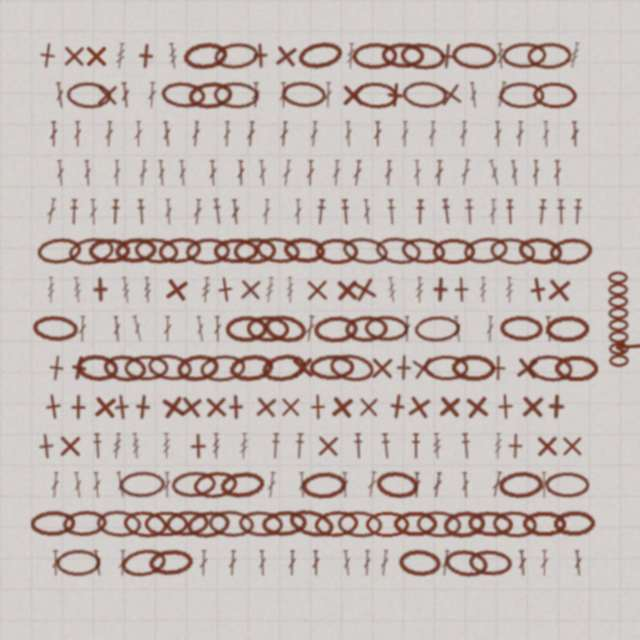chain: (286, 505, 336, 542), (296, 39, 344, 72), (120, 546, 168, 579), (262, 312, 309, 345), (260, 351, 307, 384), (328, 351, 375, 384), (67, 235, 115, 267), (341, 235, 389, 267), (185, 508, 232, 540), (443, 547, 490, 579), (254, 235, 302, 266), (374, 235, 422, 266), (462, 235, 509, 266), (146, 352, 193, 383), (192, 469, 239, 500), (182, 40, 228, 71), (157, 235, 203, 266), (517, 235, 563, 266), (175, 352, 221, 383), (228, 352, 274, 383), (399, 41, 446, 71), (36, 236, 83, 266), (133, 236, 180, 266), (489, 236, 536, 266), (199, 353, 246, 383), (527, 353, 574, 383), (375, 469, 420, 500), (213, 41, 259, 71), (160, 80, 206, 110), (187, 80, 233, 110), (400, 236, 446, 266), (548, 236, 594, 266), (102, 353, 148, 383), (219, 470, 265, 500), (122, 509, 168, 539), (313, 509, 360, 538), (442, 509, 487, 539), (451, 41, 497, 70), (402, 80, 448, 109), (32, 314, 78, 343), (96, 509, 142, 538), (208, 509, 254, 538), (261, 509, 307, 538), (281, 80, 326, 109), (282, 236, 327, 265), (75, 353, 120, 382), (171, 470, 216, 499), (498, 470, 543, 499), (62, 509, 107, 538), (165, 509, 210, 538), (148, 548, 193, 577), (66, 81, 112, 109), (213, 81, 259, 109), (532, 81, 578, 109), (185, 237, 231, 265), (414, 315, 460, 343), (238, 510, 284, 538), (337, 510, 383, 538), (416, 510, 462, 538), (467, 510, 513, 538), (114, 236, 158, 265), (398, 548, 442, 577), (353, 81, 398, 109), (313, 315, 358, 343), (301, 471, 346, 499), (492, 510, 537, 538), (468, 549, 513, 577), (119, 471, 165, 498), (352, 42, 397, 69), (527, 42, 572, 69), (344, 315, 389, 342), (364, 315, 409, 342), (499, 315, 544, 342), (309, 354, 354, 381), (30, 510, 75, 537), (56, 549, 101, 576), (381, 42, 425, 69), (502, 42, 546, 69), (233, 237, 277, 264), (246, 315, 290, 342), (545, 315, 589, 342), (451, 354, 495, 381), (499, 82, 544, 108), (213, 238, 258, 264), (124, 355, 169, 381), (424, 355, 469, 381), (225, 315, 268, 342), (553, 510, 596, 537), (315, 238, 359, 264), (432, 238, 476, 264), (554, 355, 598, 381), (545, 472, 589, 498), (144, 511, 188, 537), (365, 511, 409, 537), (393, 511, 437, 537), (522, 511, 566, 537), (88, 238, 131, 264)
double: (487, 159, 502, 186), (490, 471, 504, 498), (495, 81, 508, 108), (459, 159, 472, 186), (45, 198, 58, 225), (131, 315, 144, 342), (304, 315, 316, 342), (115, 471, 127, 498), (366, 471, 378, 498), (54, 82, 66, 108), (281, 160, 293, 186), (72, 472, 84, 498), (120, 82, 131, 108), (468, 82, 479, 108), (55, 160, 66, 186), (257, 160, 268, 186), (352, 160, 363, 186), (509, 160, 520, 186), (192, 199, 203, 225), (230, 199, 241, 225), (195, 316, 206, 342), (452, 316, 463, 342), (266, 472, 277, 498), (432, 472, 443, 498), (92, 550, 103, 576), (379, 550, 390, 576), (440, 550, 451, 576), (517, 550, 528, 576), (147, 82, 157, 108), (104, 121, 114, 147), (162, 121, 172, 147), (191, 121, 201, 147), (246, 121, 256, 147), (279, 121, 289, 147), (309, 121, 319, 147), (493, 121, 503, 147), (515, 121, 525, 147), (570, 121, 580, 147), (138, 160, 148, 186), (208, 160, 218, 186), (434, 160, 444, 186), (362, 199, 372, 225), (112, 316, 122, 342), (544, 316, 554, 342), (50, 472, 60, 498), (92, 472, 102, 498), (342, 550, 352, 576), (573, 550, 583, 576), (251, 82, 260, 108), (279, 82, 288, 108), (49, 121, 58, 147), (73, 121, 82, 147), (134, 121, 143, 147), (344, 121, 353, 147), (373, 121, 382, 147), (428, 121, 437, 147), (459, 121, 468, 147), (83, 160, 92, 186), (157, 160, 166, 186), (178, 160, 187, 186), (306, 160, 315, 186), (332, 160, 341, 186), (384, 160, 393, 186), (413, 160, 422, 186), (553, 160, 562, 186), (89, 199, 98, 225), (164, 199, 173, 225), (262, 199, 271, 225), (78, 316, 87, 342), (163, 316, 172, 342), (213, 316, 222, 342), (298, 472, 307, 498), (412, 472, 421, 498), (461, 472, 470, 498), (51, 550, 60, 576), (118, 550, 127, 576), (199, 550, 208, 576), (228, 550, 237, 576), (258, 550, 267, 576), (540, 550, 549, 576), (324, 82, 332, 108), (223, 121, 231, 147), (401, 121, 409, 147), (542, 121, 550, 147), (113, 160, 121, 186), (237, 160, 245, 186), (532, 160, 540, 186), (294, 199, 302, 225), (489, 199, 497, 225), (403, 316, 411, 342), (486, 316, 494, 342), (163, 472, 171, 498), (341, 472, 349, 498), (540, 472, 548, 498), (288, 550, 296, 576), (312, 550, 320, 576), (363, 550, 371, 576)
enseble_chain: (606, 271, 631, 369)
half_double: (211, 198, 224, 225), (440, 198, 453, 225), (315, 199, 327, 225), (536, 199, 548, 225), (380, 433, 392, 459), (460, 433, 472, 459), (110, 199, 121, 225), (136, 199, 147, 225), (340, 199, 351, 225), (386, 199, 397, 225), (464, 199, 475, 225), (572, 199, 583, 225), (92, 433, 103, 459), (270, 433, 281, 459), (294, 433, 305, 459), (353, 433, 364, 459), (69, 199, 79, 225), (415, 199, 425, 225), (505, 199, 515, 225), (556, 199, 566, 225), (411, 433, 421, 459)
noise: (613, 338, 640, 354)
single: (349, 274, 380, 305), (64, 353, 94, 383), (408, 353, 438, 383), (158, 392, 188, 422), (404, 392, 434, 422), (33, 41, 62, 70), (436, 80, 465, 109), (162, 275, 191, 304), (211, 275, 240, 304), (523, 275, 552, 304), (39, 392, 68, 421), (383, 392, 412, 421), (132, 42, 160, 70), (272, 42, 300, 70), (433, 42, 461, 70), (381, 81, 409, 109), (545, 276, 573, 304), (513, 354, 541, 382), (91, 393, 119, 421), (108, 393, 136, 421), (129, 393, 157, 421), (177, 393, 205, 421), (252, 393, 280, 421), (328, 393, 356, 421), (463, 393, 491, 421), (32, 432, 60, 460), (43, 354, 70, 382), (247, 42, 274, 69), (87, 276, 114, 303), (237, 276, 264, 303), (427, 276, 454, 303), (448, 276, 475, 303), (289, 354, 316, 381), (390, 354, 417, 381), (436, 393, 463, 420), (492, 393, 519, 420), (519, 393, 546, 420), (543, 393, 570, 420), (61, 43, 87, 69), (83, 43, 109, 69), (94, 82, 120, 108), (340, 82, 366, 108), (304, 277, 330, 303), (334, 277, 360, 303), (369, 355, 395, 381), (485, 355, 511, 381), (65, 394, 91, 420), (203, 394, 229, 420), (223, 394, 249, 420), (305, 394, 331, 420), (57, 433, 83, 459), (185, 433, 211, 459), (315, 433, 341, 459), (534, 433, 560, 459), (559, 433, 585, 459), (278, 394, 303, 420), (356, 394, 381, 420), (503, 433, 528, 459)
treble: (568, 42, 581, 69), (167, 43, 179, 69), (120, 277, 132, 303), (386, 277, 398, 303), (115, 43, 126, 69), (72, 277, 83, 303), (264, 277, 275, 303), (346, 43, 356, 69), (201, 277, 211, 303), (112, 433, 122, 459), (131, 433, 141, 459), (239, 433, 249, 459), (432, 433, 442, 459), (496, 43, 505, 69), (143, 277, 152, 303), (415, 277, 424, 303), (505, 277, 514, 303), (162, 433, 171, 459), (47, 277, 55, 303), (286, 277, 294, 303), (479, 277, 487, 303), (212, 433, 220, 459), (494, 433, 502, 459)
